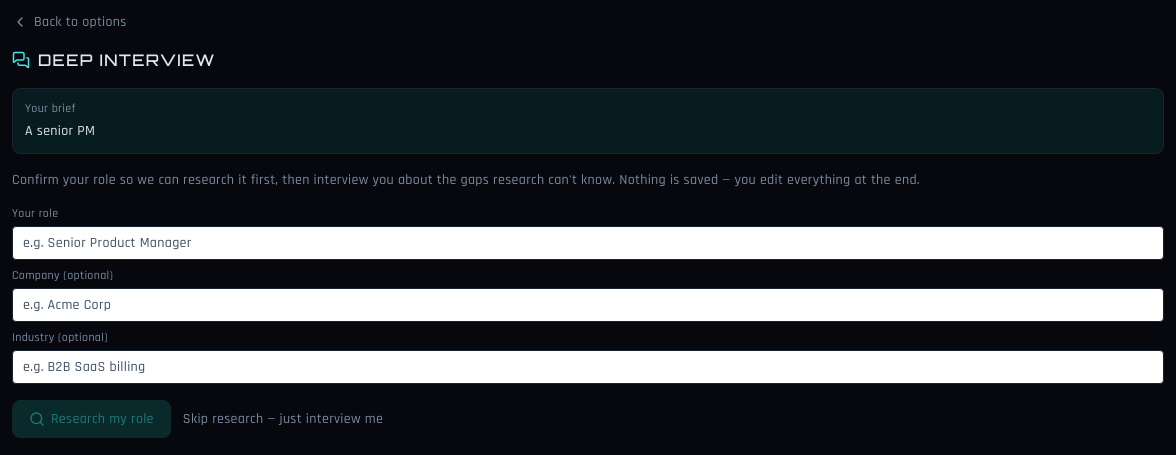
Test: DeepInterviewPanel — role input (step 1) › "Skip research — just interview me" goes straight to the interview with NO research and NO roleContext
expect the field labelled "Your role" is shown: met, box [12,226,1164,260]
Click the button "Skip research — just interview me".
click(283, 419)  # box [183,409,383,429]
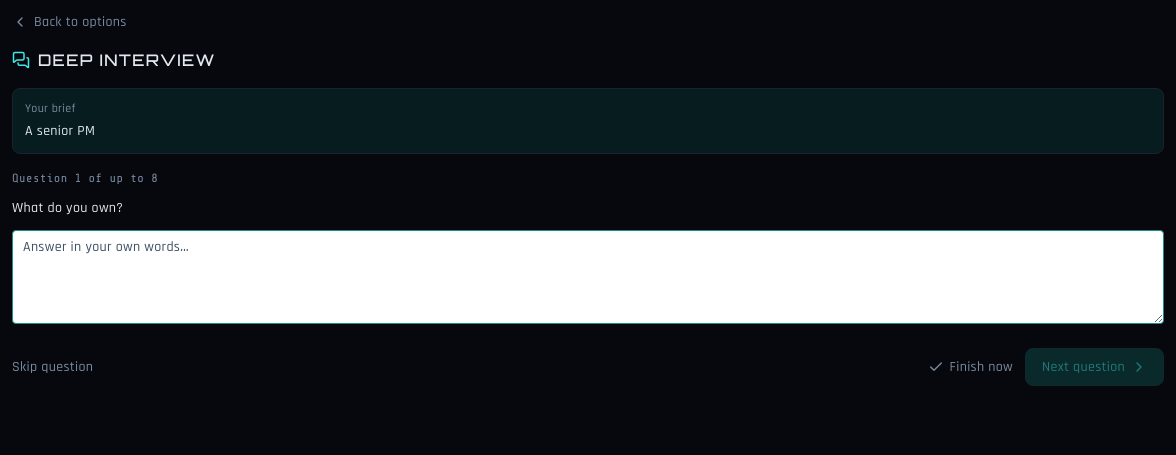
expect the text "What do you own?" is shown: met, box [12,199,123,217]
